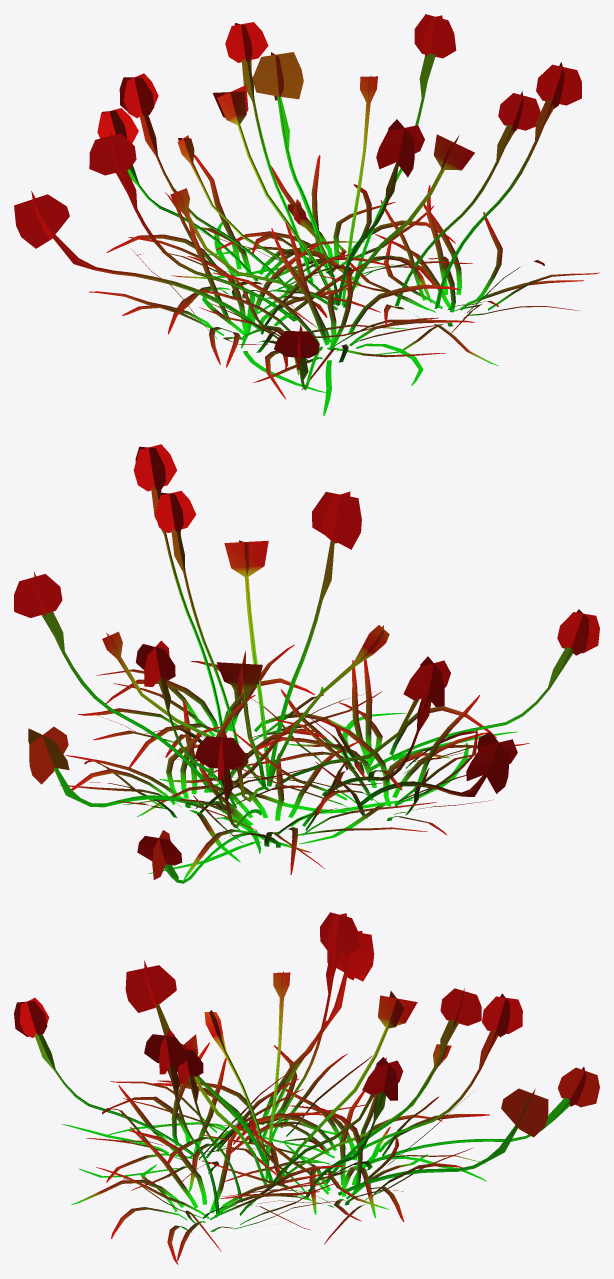
File: Var4_LOD1.fbx
The picture shows the model from 3 angles, top to bottom: view 1: azimuth 30°, elevation 25°; view 2: azimuth 150°, elevation 25°; view 3: azimuth 270°, elevation 25°; orthographic projection. The views are drawn at different scales.
Parts seen in each view (by area): view 1: _met6_Var4_LOD1; view 2: _met6_Var4_LOD1; view 3: _met6_Var4_LOD1.
Boxes of the visible parts, left/top/right/bottom form: _met6_Var4_LOD1: left=14, top=14, right=599, bottom=415; _met6_Var4_LOD1: left=14, top=444, right=599, bottom=883; _met6_Var4_LOD1: left=14, top=912, right=599, bottom=1264.
Bounding box in the file's own units: 30.99 × 14.82 × 34.08.
